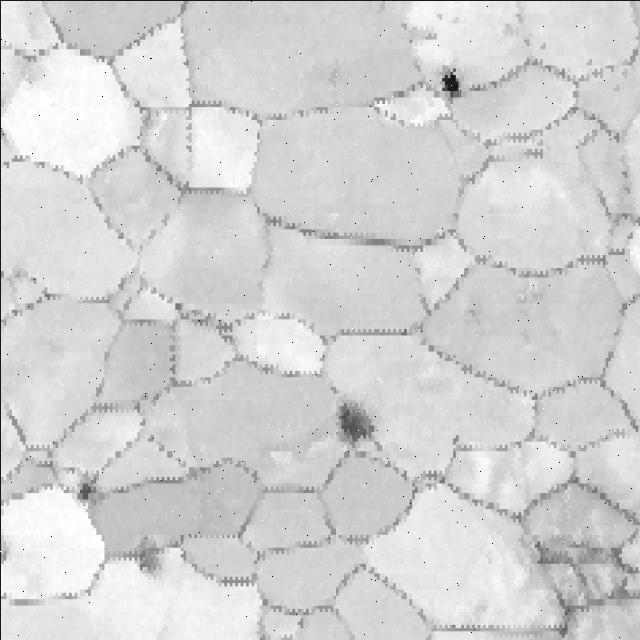good_void: (307, 383, 376, 462), (536, 537, 614, 569), (71, 472, 112, 518), (312, 58, 351, 98), (127, 533, 159, 577), (602, 574, 638, 608), (434, 67, 471, 96)
